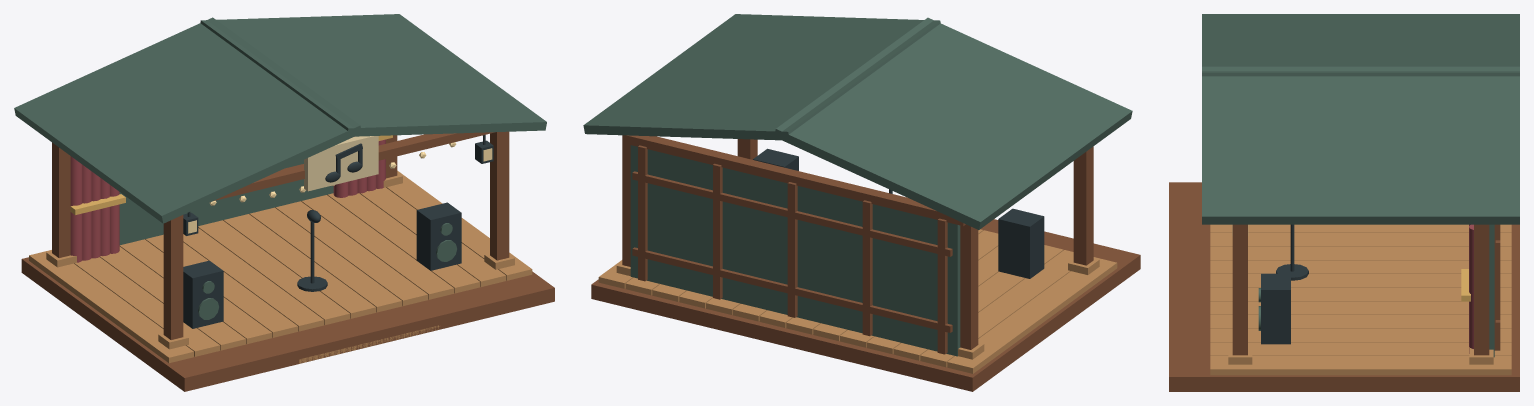
The model's file is festival-stage.glb.
3 renders of one model, left to right at view 1: azimuth 30°, elevation 25°; view 2: azimuth 150°, elevation 25°; view 3: azimuth 270°, elevation 25°, orthographic. The views are drawn at different scales.
Visible parts, largest first — view 1: sage, deck, timber, dark, curtain, trim, gold, lamp; view 2: sage, timber, deck, dark; view 3: sage, deck, timber, dark, curtain.
Part boxes in pixels (x1,y1,x2,y2): sage: [14, 14, 546, 319]; deck: [29, 170, 532, 363]; timber: [21, 131, 554, 391]; dark: [183, 135, 493, 328]; curtain: [70, 136, 385, 262]; trim: [304, 136, 378, 191]; gold: [70, 135, 392, 215]; lamp: [188, 142, 492, 233]; sage: [583, 14, 1132, 356]; timber: [591, 135, 1140, 391]; deck: [598, 229, 1117, 373]; dark: [753, 148, 1044, 278]; sage: [1202, 14, 1519, 357]; deck: [1210, 224, 1511, 375]; timber: [1169, 182, 1519, 391]; dark: [1261, 224, 1308, 344]; curtain: [1469, 224, 1473, 353].
Bounding box in the file's own units: 8.74 × 4.53 × 6.4.
